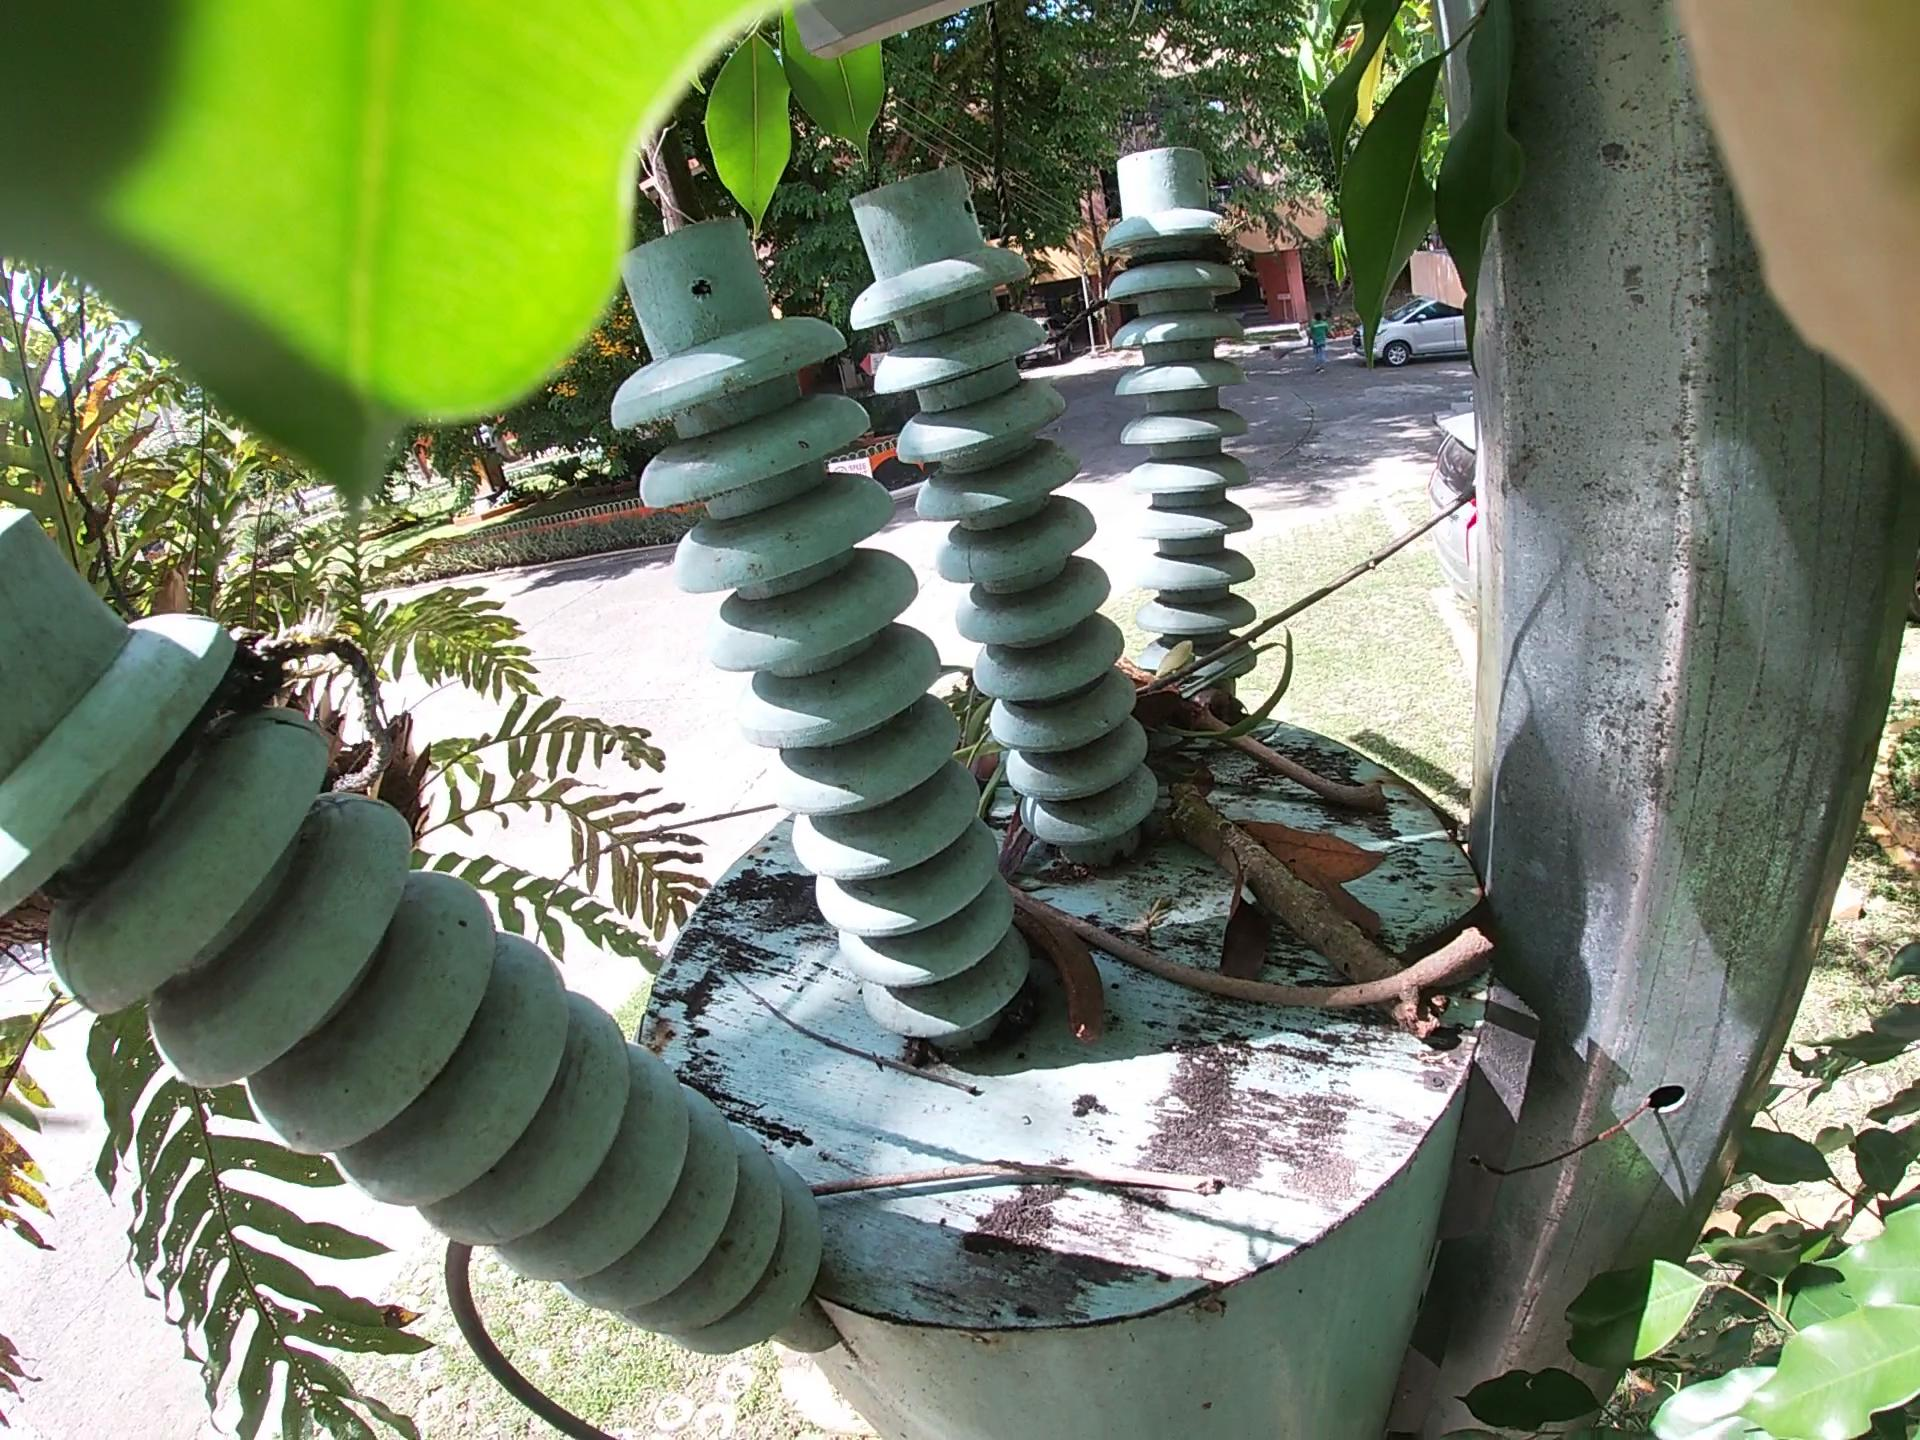branch with leaves: (990, 563, 1530, 1080)
leaf: (1191, 790, 1412, 985)
tree branch: (1005, 327, 1751, 725), (989, 835, 1516, 1053), (688, 1085, 1163, 1289)
